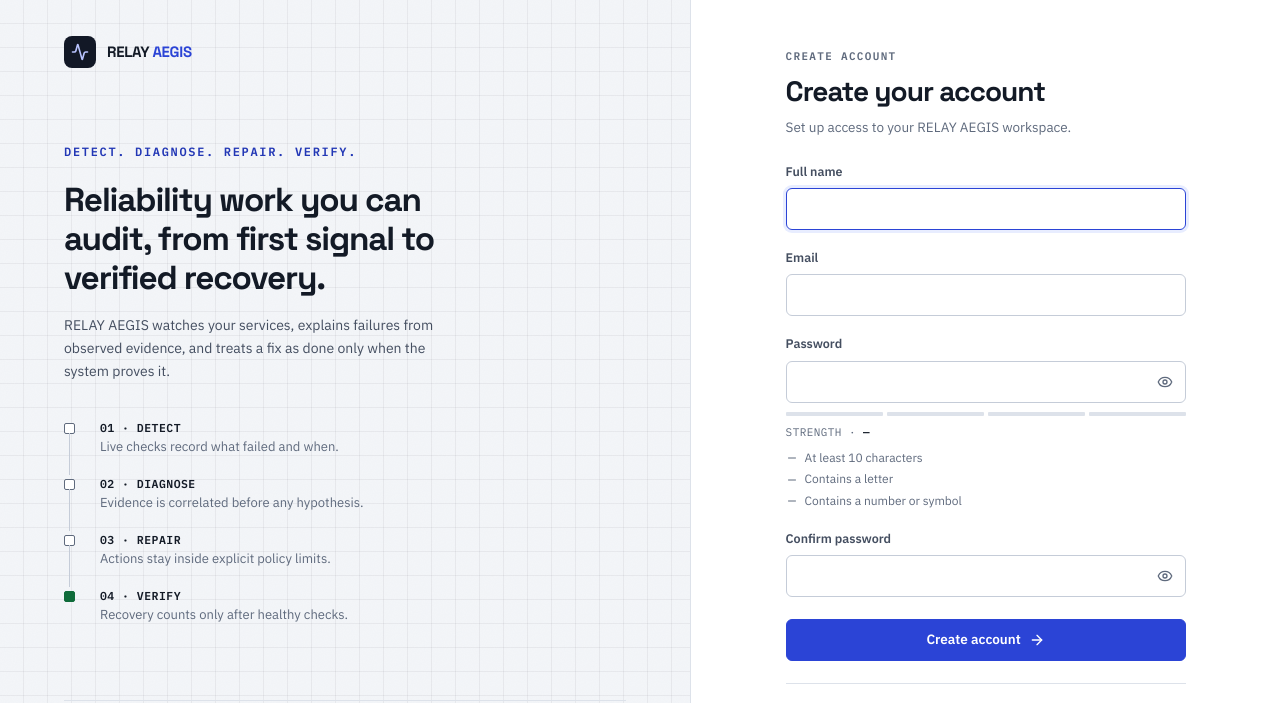
Scenario: registration › creates the account, signs in and opens the app
Type "Ada Lovelace" into the field labelled "Full name" at (986, 209), box 786,188 -> 1186,230
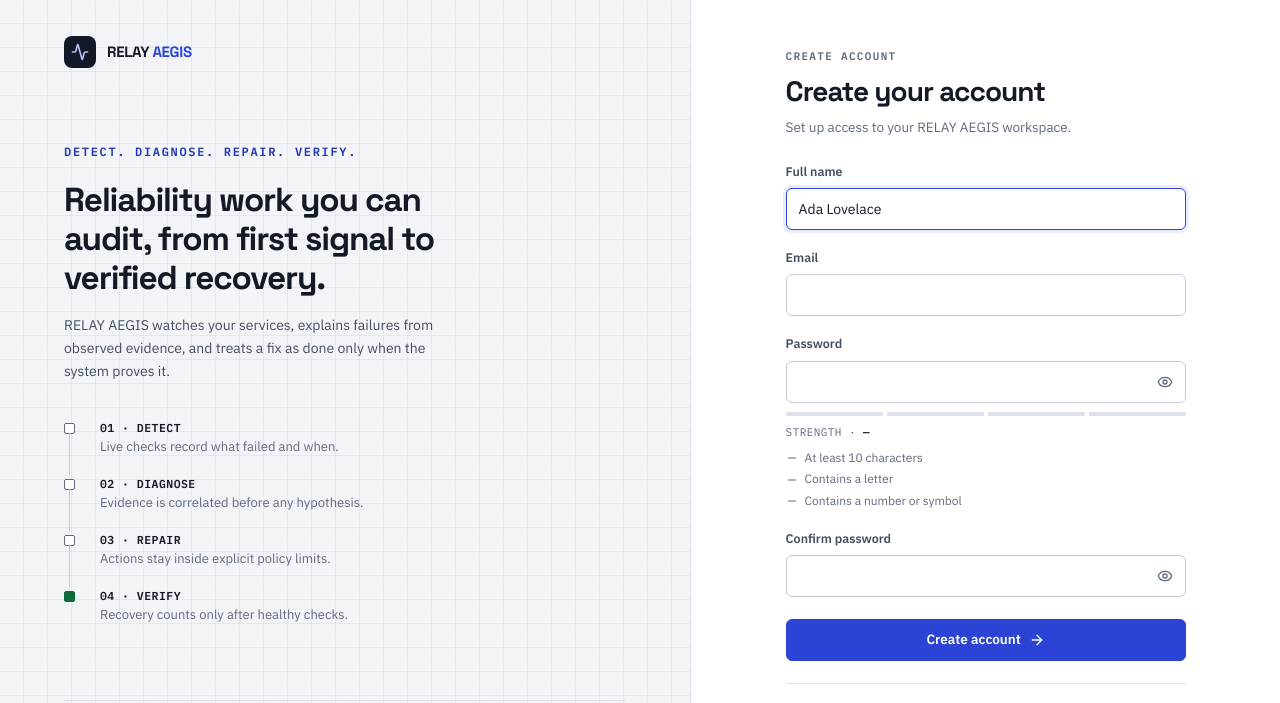
Type "ada@relay.test" into the field labelled "Email" at (986, 295), box 786,274 -> 1186,316
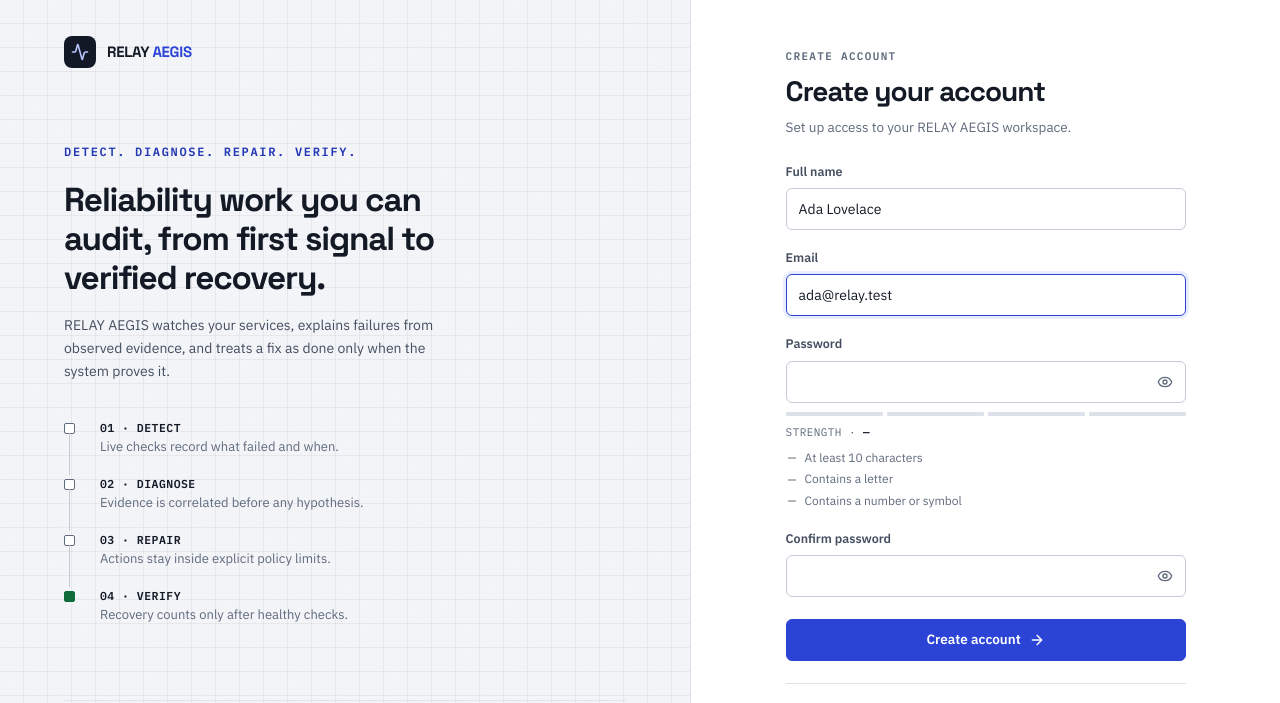
Type "Correct-Horse-42" into the password field labelled "Password" at (986, 382), box 786,361 -> 1186,403
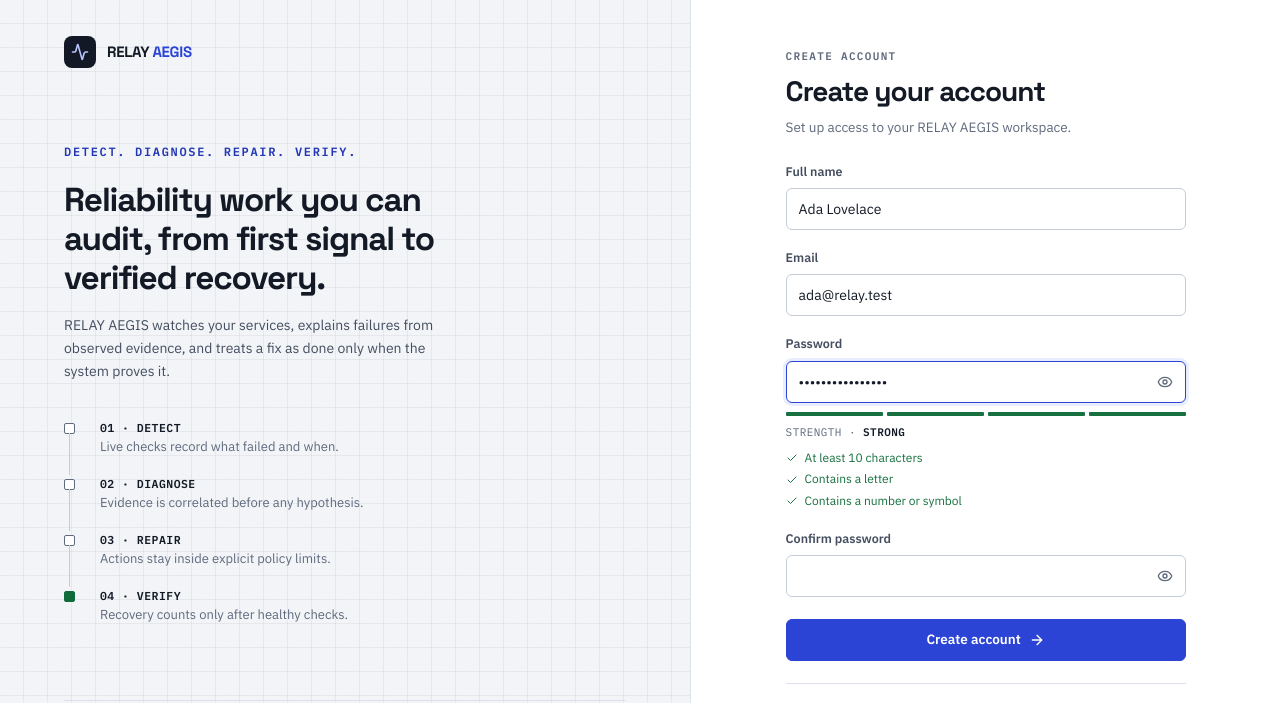
Type "Correct-Horse-42" into the password field labelled "Confirm password" at (986, 576), box 786,555 -> 1186,597
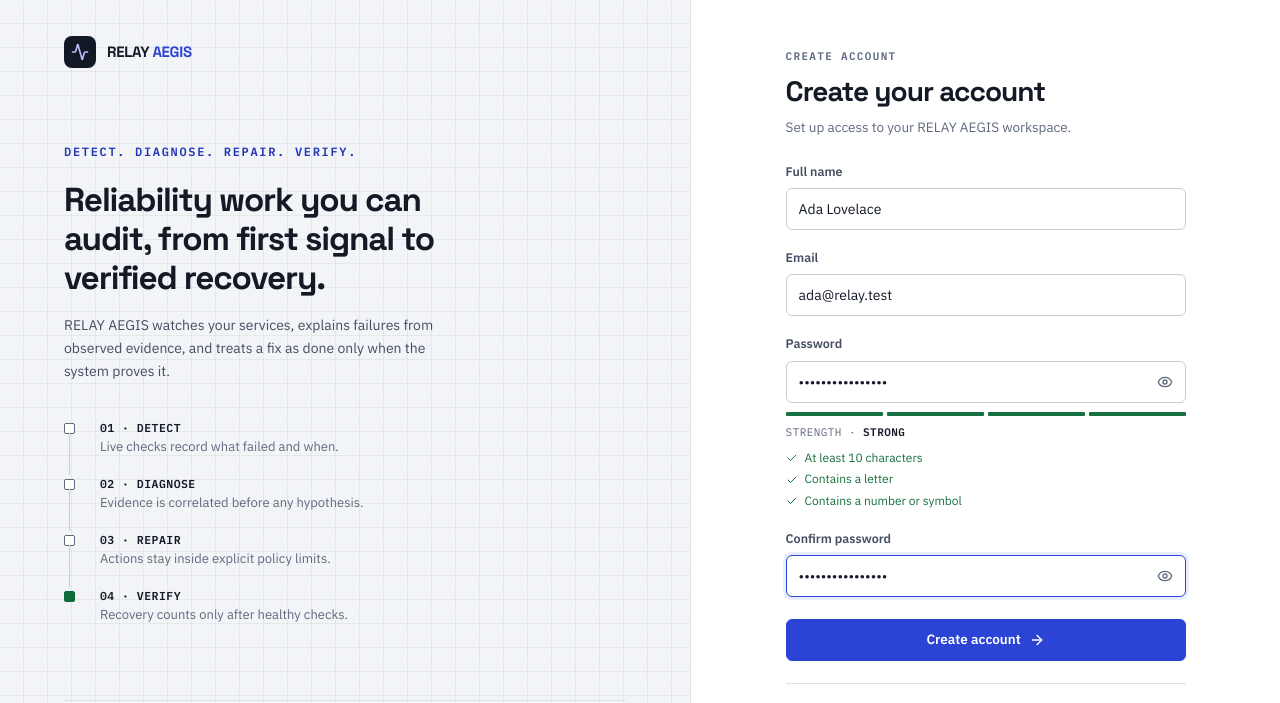
Click the button "Create account" at (986, 640), box 786,619 -> 1186,661
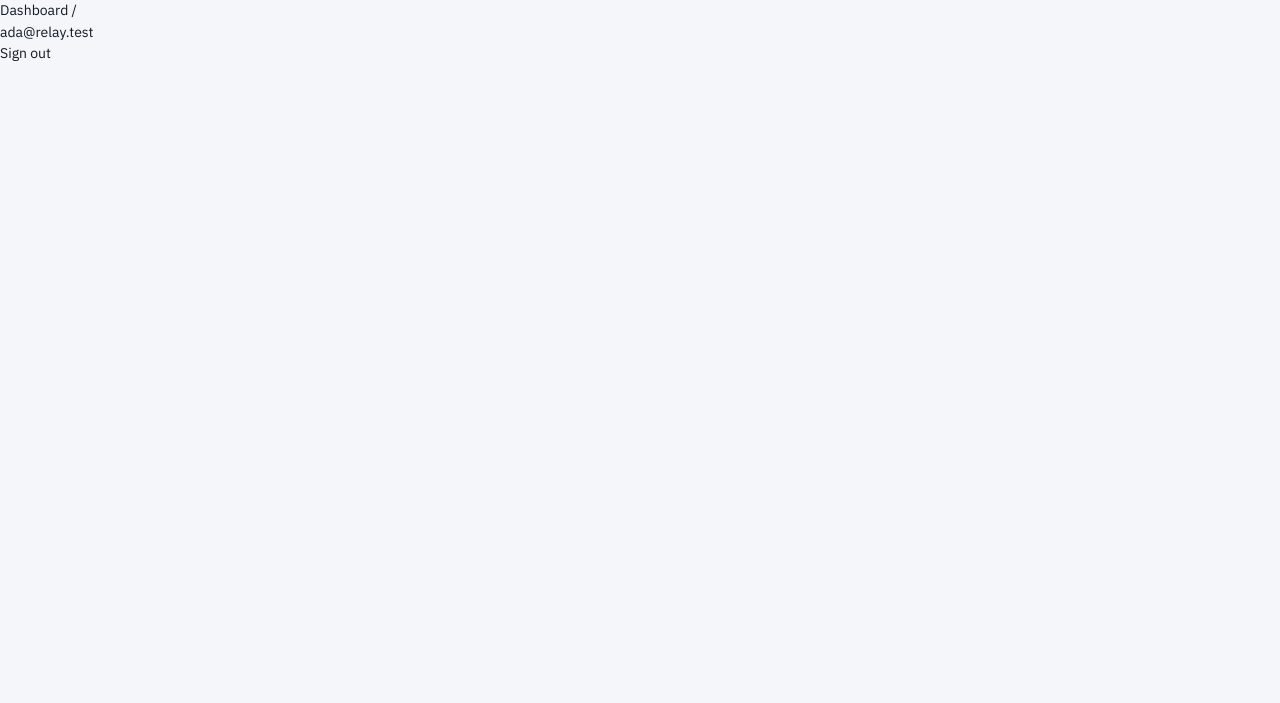
expect the heading "Dashboard /" is shown: met, box 0,1 -> 77,19
